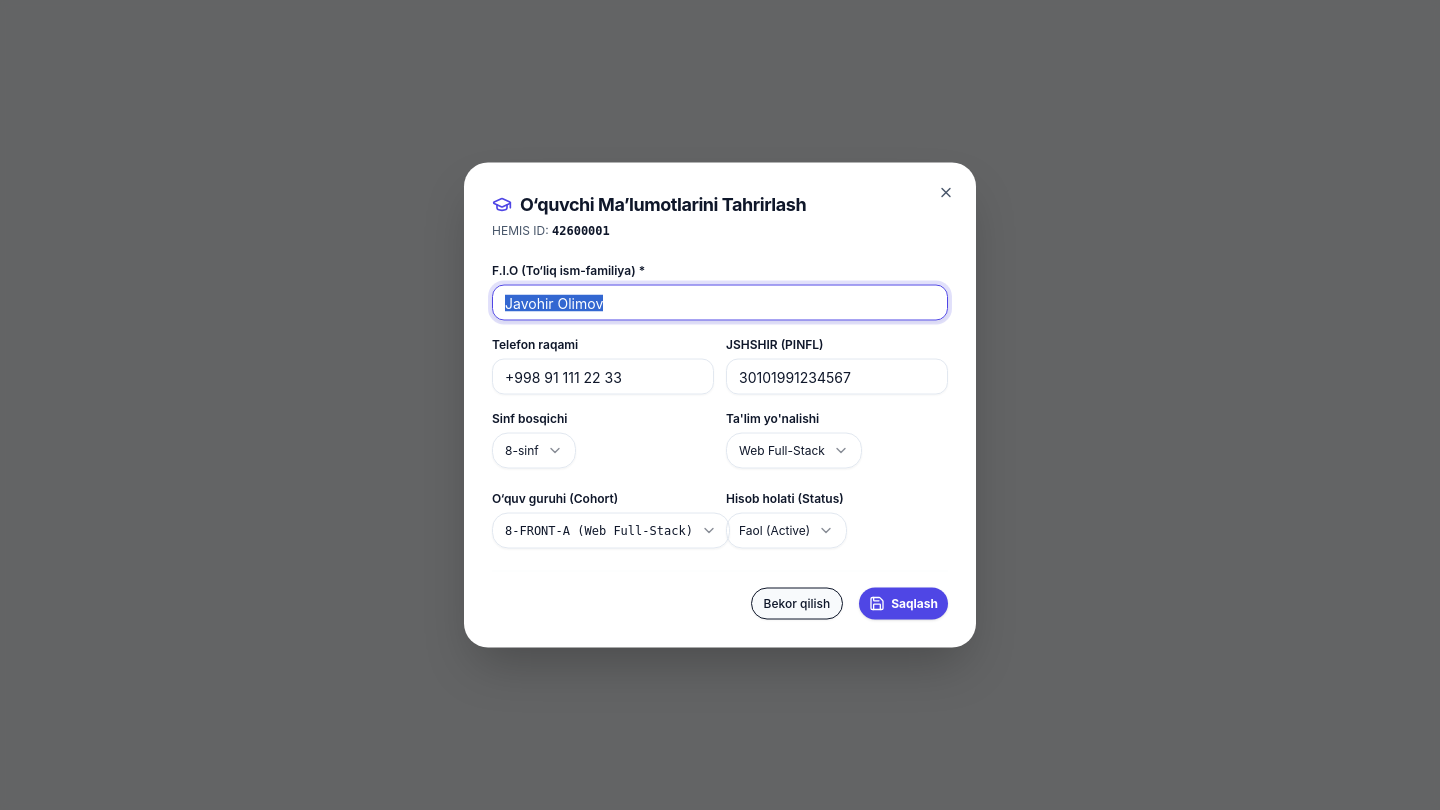
Scenario: Module 01: Student Modals Component Tests › EditStudentModal › validates required fields before submitting
Clear the field showing "Javohir Olimov" at (720, 302), box [492, 284, 948, 320]
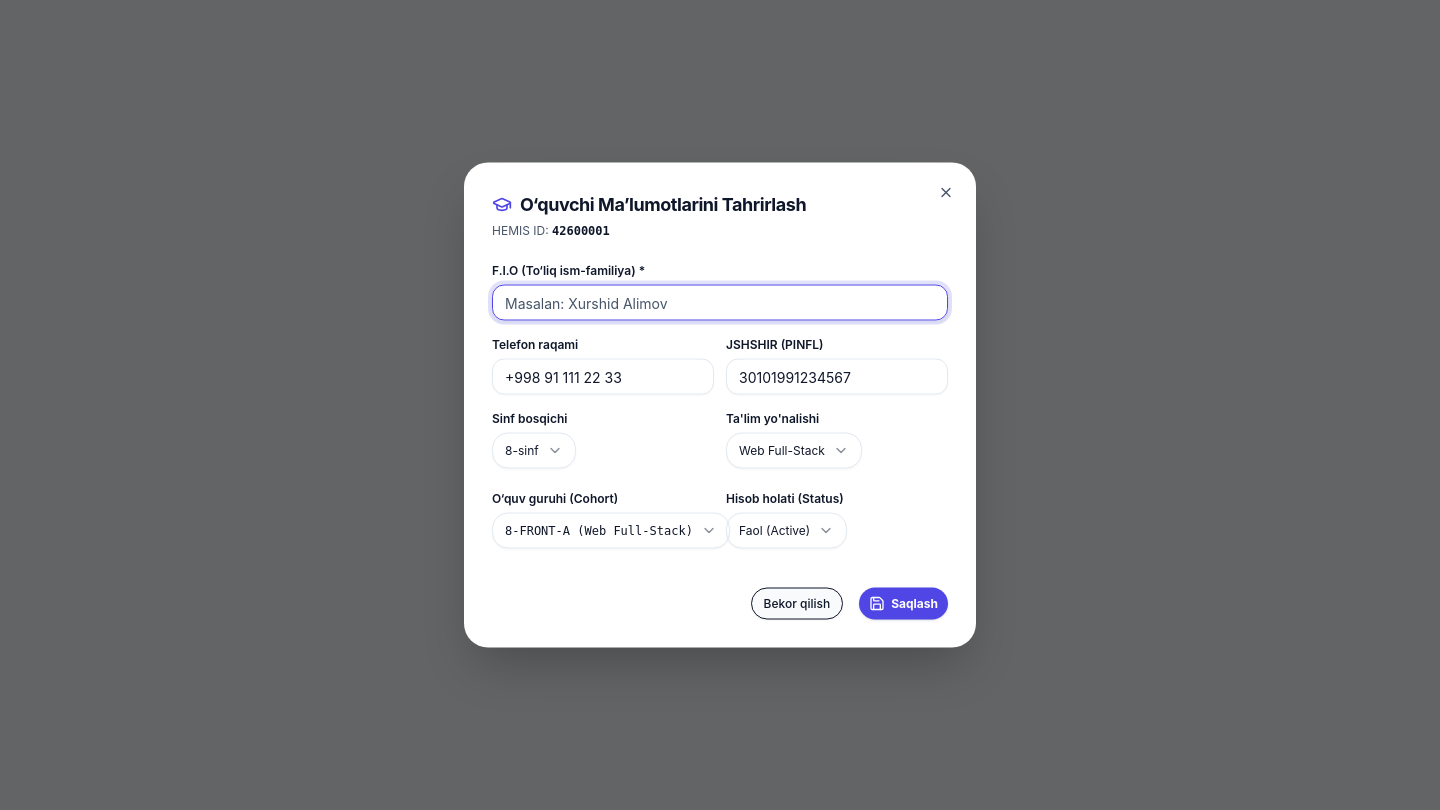
Submit the form, box [492, 254, 948, 620]
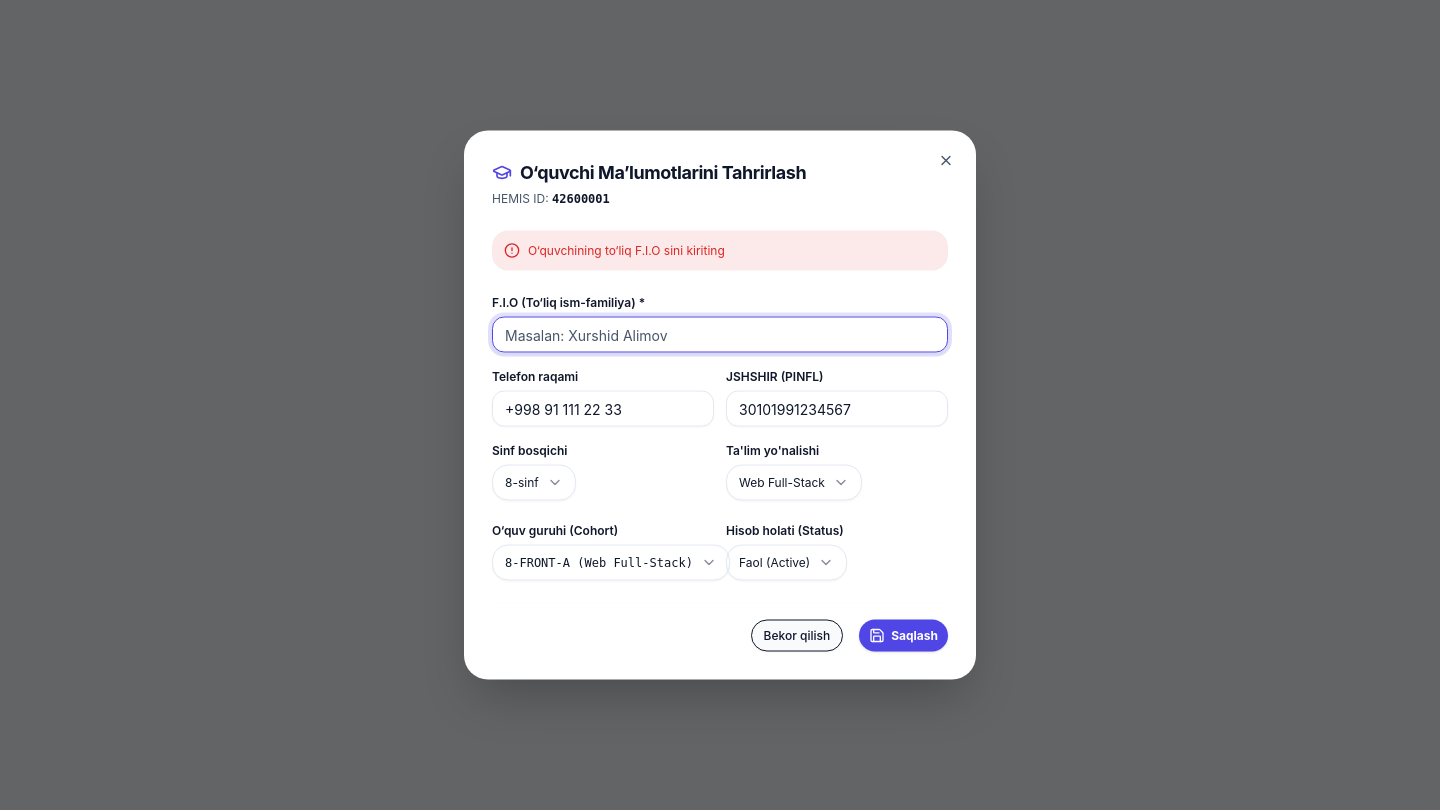
Now the text "O‘quvchining to‘liq F.I.O sini kiriting" is shown, box [528, 242, 725, 258]
